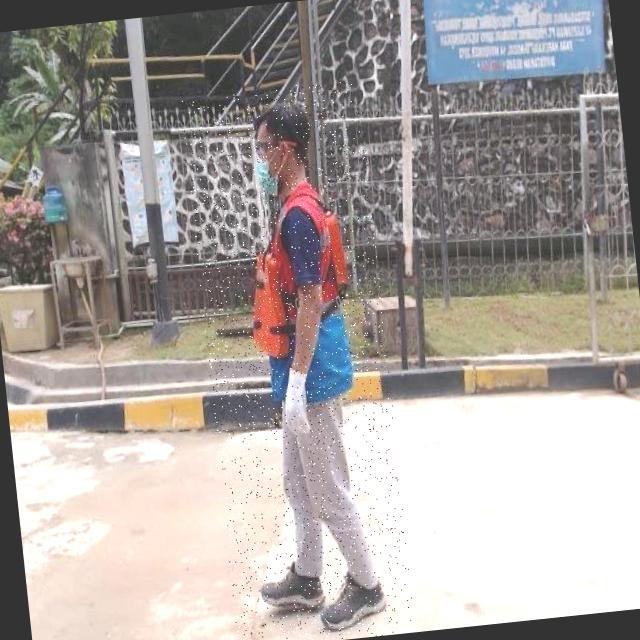gloves: (262, 347, 334, 442)
no-boots: (312, 566, 392, 636), (254, 558, 328, 619)
no-helmet: (238, 91, 338, 200)
vest: (235, 177, 358, 407)
